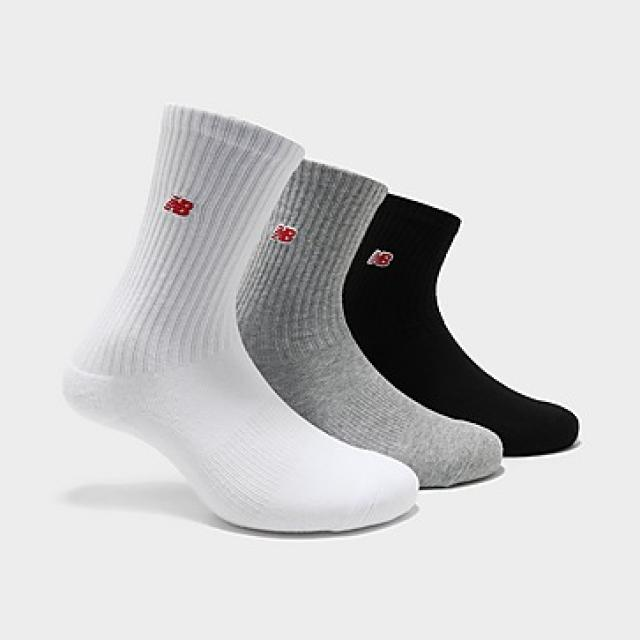sock: (62, 102, 420, 532), (232, 157, 502, 488), (341, 190, 578, 457)
